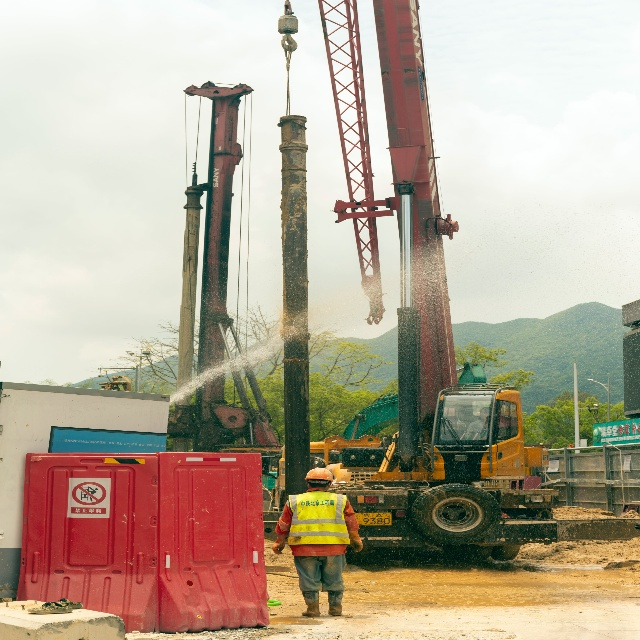Guantes: (348, 528, 363, 553), (271, 537, 288, 555)
